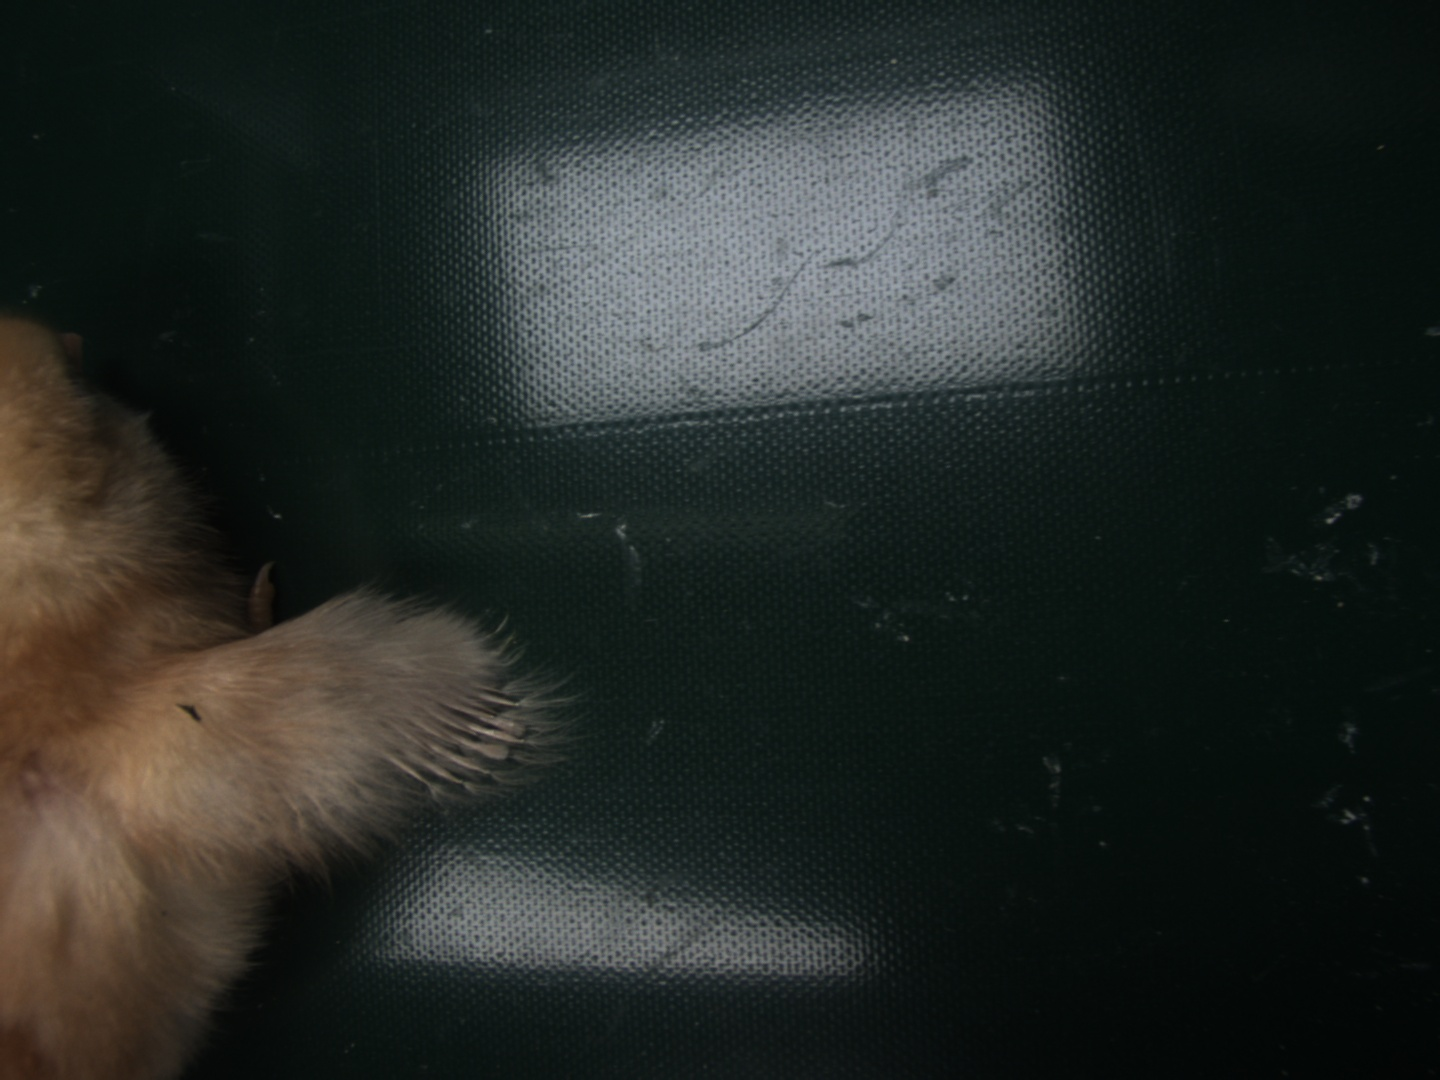female: (379, 676, 532, 788)
